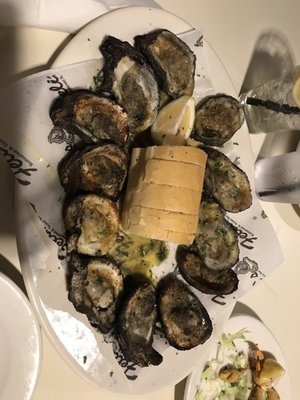sushi: (0, 260, 43, 400)
